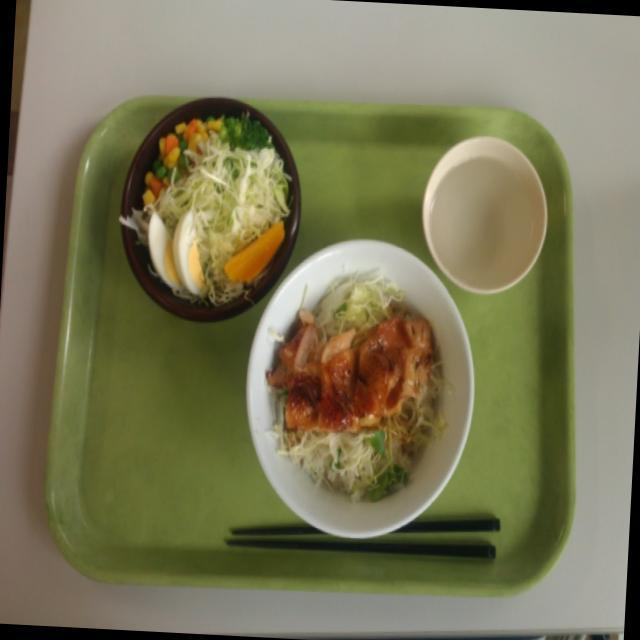Green Salad: (132, 94, 292, 294)
